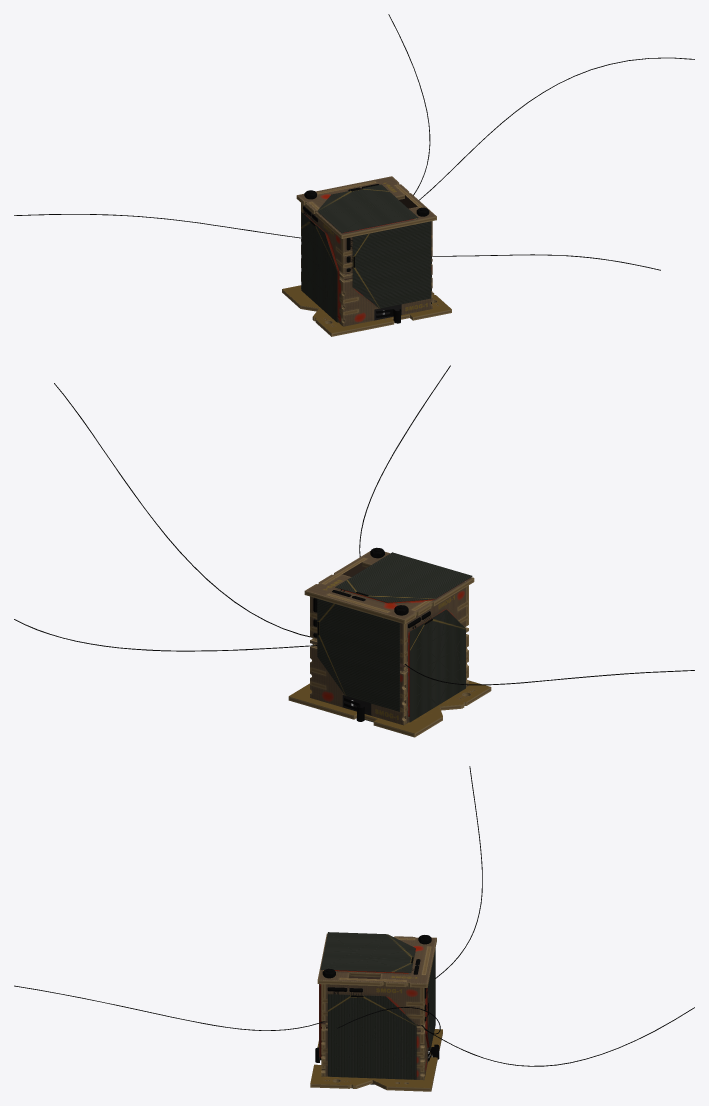
File: c_smog_1.glb
3 renders of one model, top to bottom at view 1: azimuth 30°, elevation 25°; view 2: azimuth 150°, elevation 25°; view 3: azimuth 270°, elevation 25°, orthographic. The views are drawn at different scales.
Size of the model in its own units: 140 by 40.52 by 127.
Materials: 4 (4 with a texture image).
